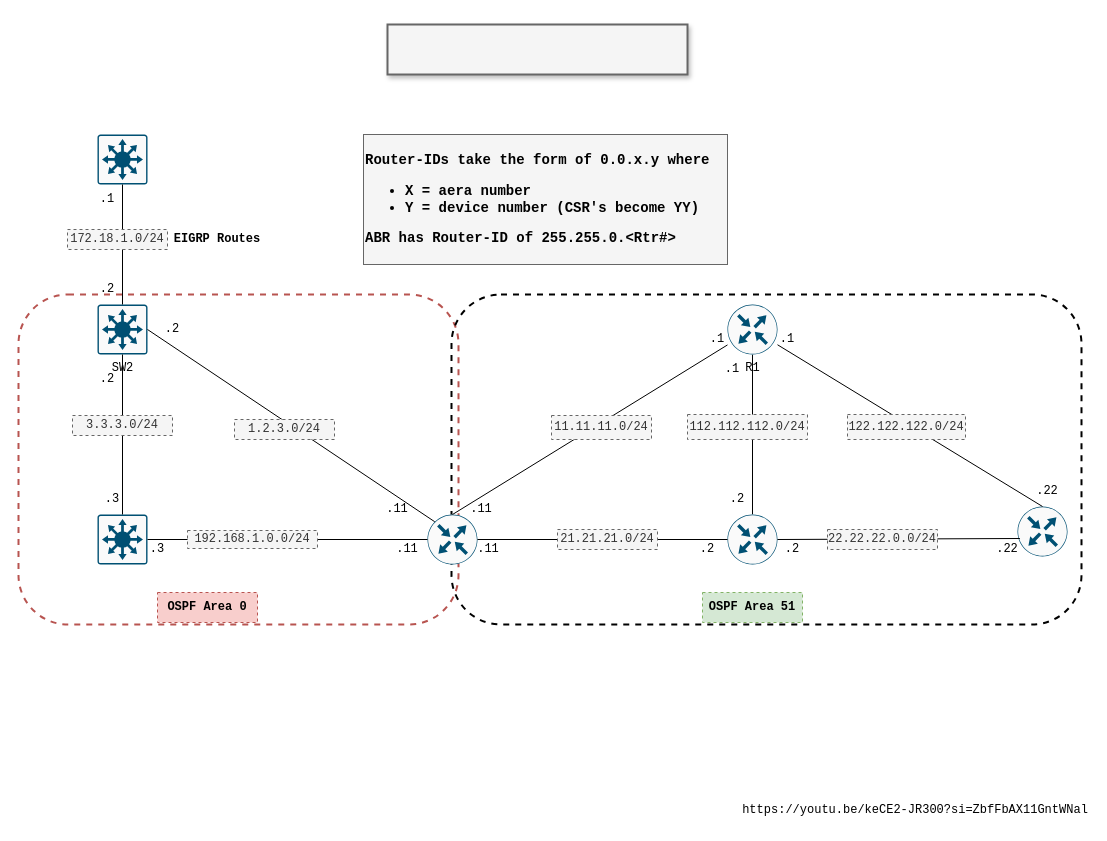
Some shapes in this 1107 by 841 pixel diagram are drawn without their labels. The shapes that lost their labels are listed below. From the top down, each one's centre as x and y in pixels, then its label:
point (538, 50): Topology Diagram
point (122, 159): SW1
point (122, 539): SW3
point (452, 539): CSR1
point (752, 539): R2
point (1042, 531): CSR2
